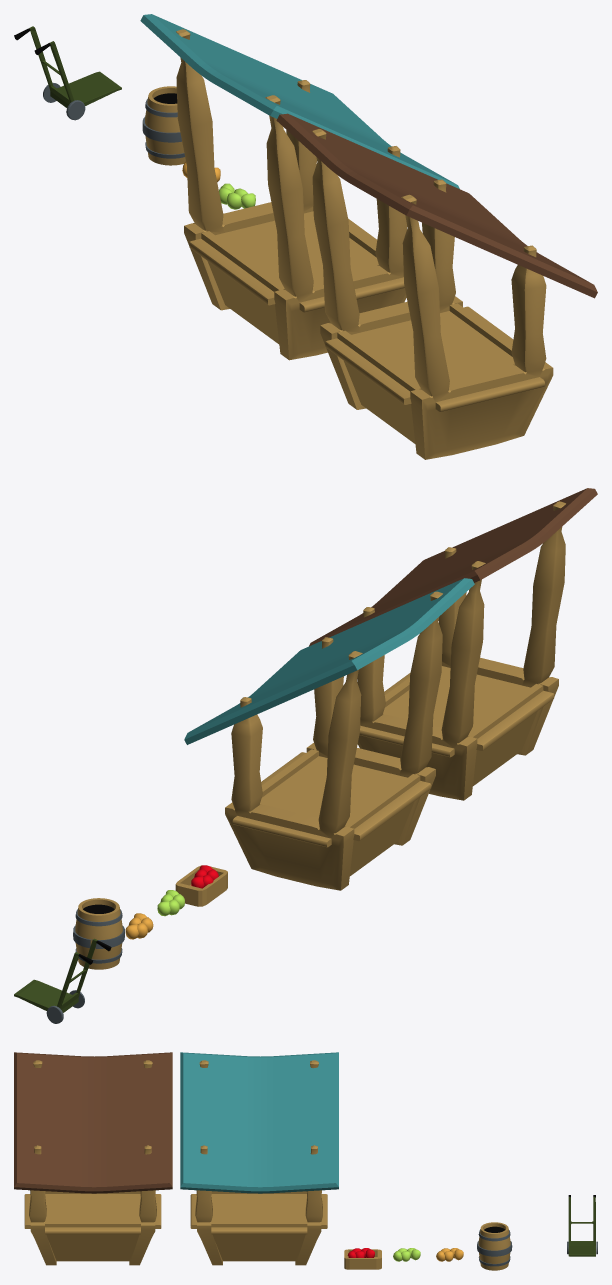
The model's file is pijaca.fbx.
3 views of the same model, one above another, from view 1: azimuth 30°, elevation 25°; view 2: azimuth 150°, elevation 25°; view 3: azimuth 270°, elevation 25° (orthographic). The views are drawn at different scales.
Parts seen in each view (by area): view 1: Cube.005, Cube, Cube.006, Cube.004, Cube.007, Cylinder, Icosphere.006; view 2: Cube, Cube.005, Cube.004, Cube.006, Cylinder, Cube.007, Cube.001; view 3: Cube.006, Cube.004, Cube.005, Cube, Cylinder, Cube.007, Cube.001, Icosphere.006, Icosphere.014.
Part boxes in pixels (box(x1,y1,x2,y2)): Cube.005: box(312, 129, 553, 459); Cube: box(176, 29, 407, 360); Cube.006: box(276, 113, 597, 298); Cube.004: box(140, 14, 459, 188); Cube.007: box(14, 26, 121, 120); Cylinder: box(142, 86, 185, 165); Icosphere.006: box(219, 183, 255, 209); Cube: box(225, 591, 442, 890); Cube.005: box(357, 501, 565, 800); Cube.004: box(184, 578, 474, 744); Cube.006: box(309, 488, 597, 646); Cylinder: box(73, 898, 124, 969); Cube.007: box(14, 938, 111, 1023); Cube.001: box(175, 865, 227, 906); Cube.006: box(14, 1052, 172, 1193); Cube.004: box(180, 1052, 338, 1193); Cube.005: box(24, 1060, 161, 1265); Cube: box(190, 1060, 327, 1265); Cylinder: box(477, 1222, 512, 1270); Cube.007: box(567, 1195, 597, 1256); Cube.001: box(344, 1249, 381, 1269); Icosphere.006: box(393, 1248, 420, 1261); Icosphere.014: box(436, 1248, 463, 1261).
Size of the model in its own units: 347 by 484 by 1484.
